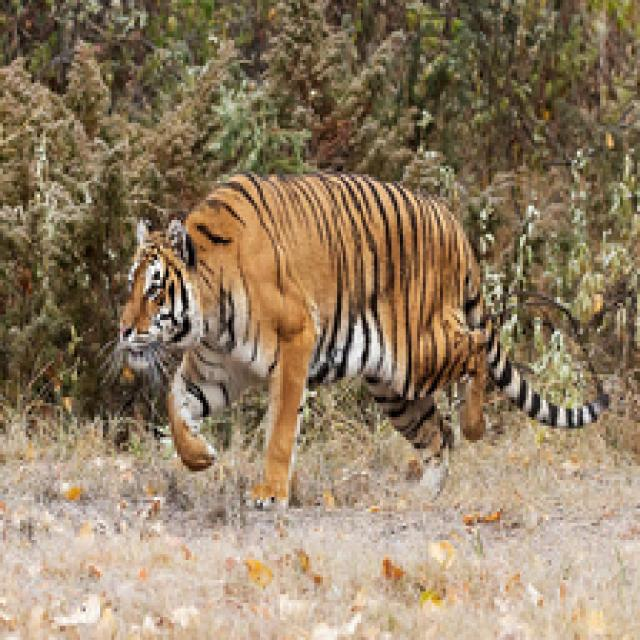tiger: (72, 140, 609, 528)
